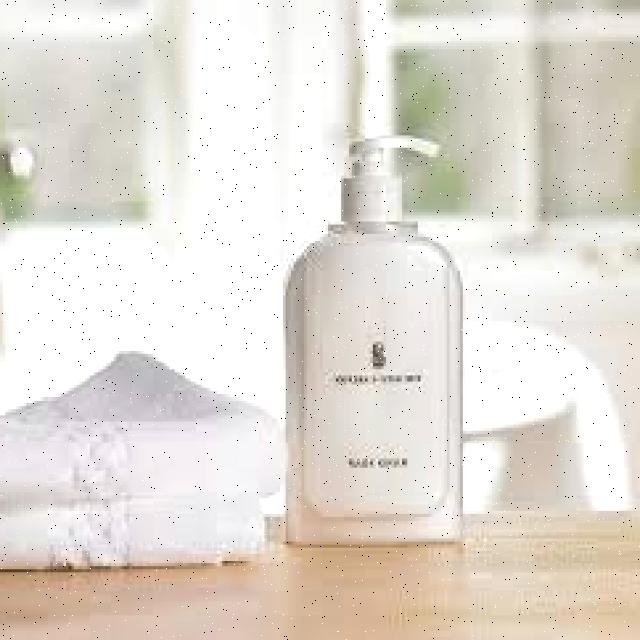liquid soap: (279, 132, 468, 554)
